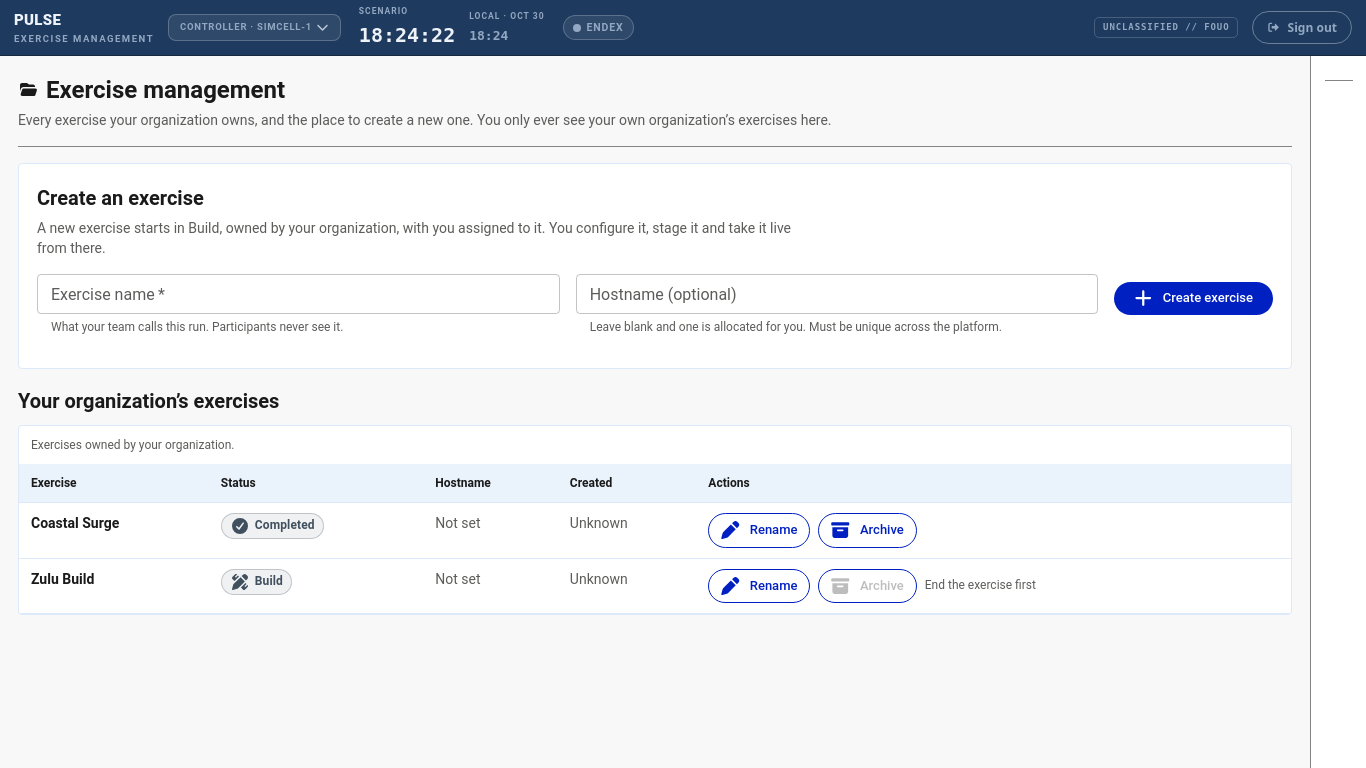
Test: archiving the ACTIVE exercise › turns the staff header’s ENDEX pill into ARCHIVED without a reload
expect the table with test id "org-exercise-table" is shown: met, box [19,426,1291,614]
expect the text with test id "staff-header-state-pill-label" reads "ENDEX": met, box [587,21,624,34]
Click the button with aria-label "Archive Coastal Surge".
click(868, 530)  # box [818,513,917,548]
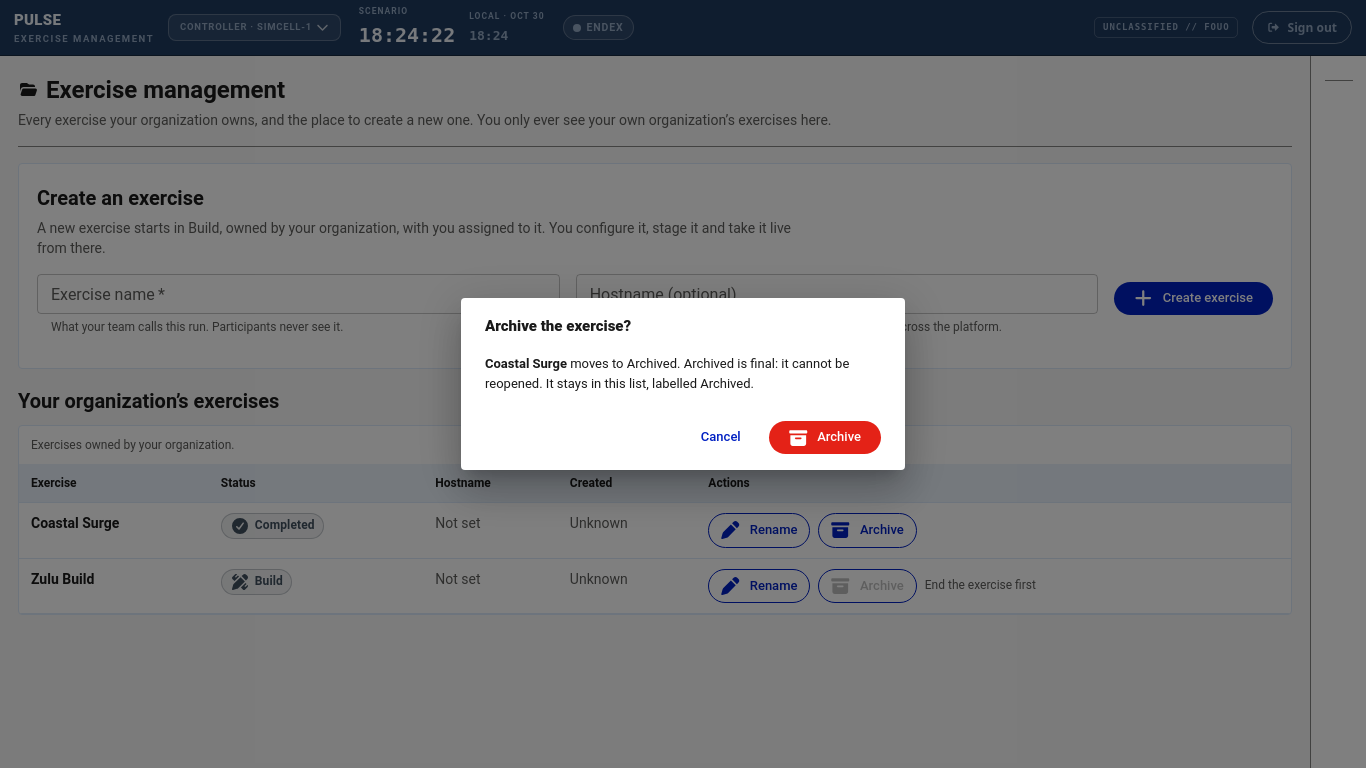
Click the button with test id "archive-exercise-confirm".
click(825, 438)  # box [769,421,881,454]
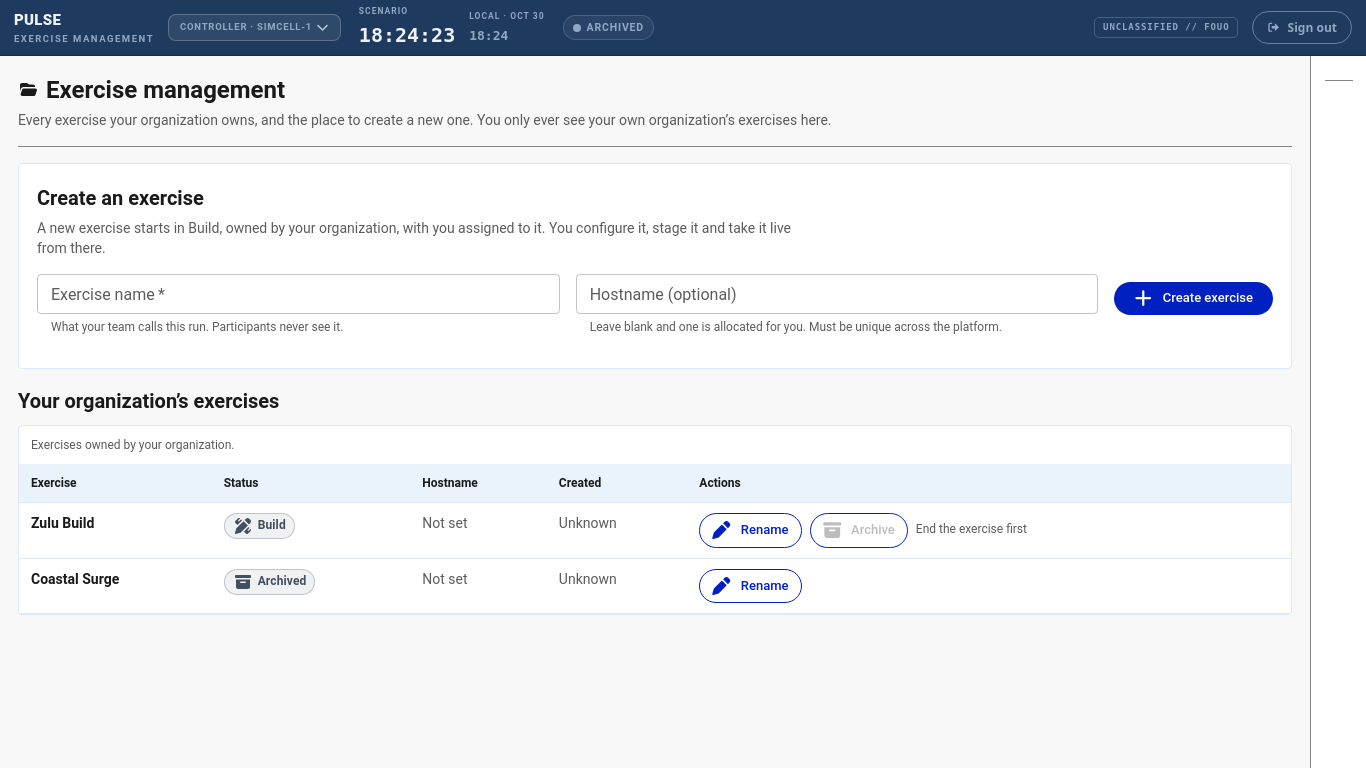
expect the text with test id "staff-header-state-pill-label" reads "ARCHIVED": met, box [587,21,644,34]
